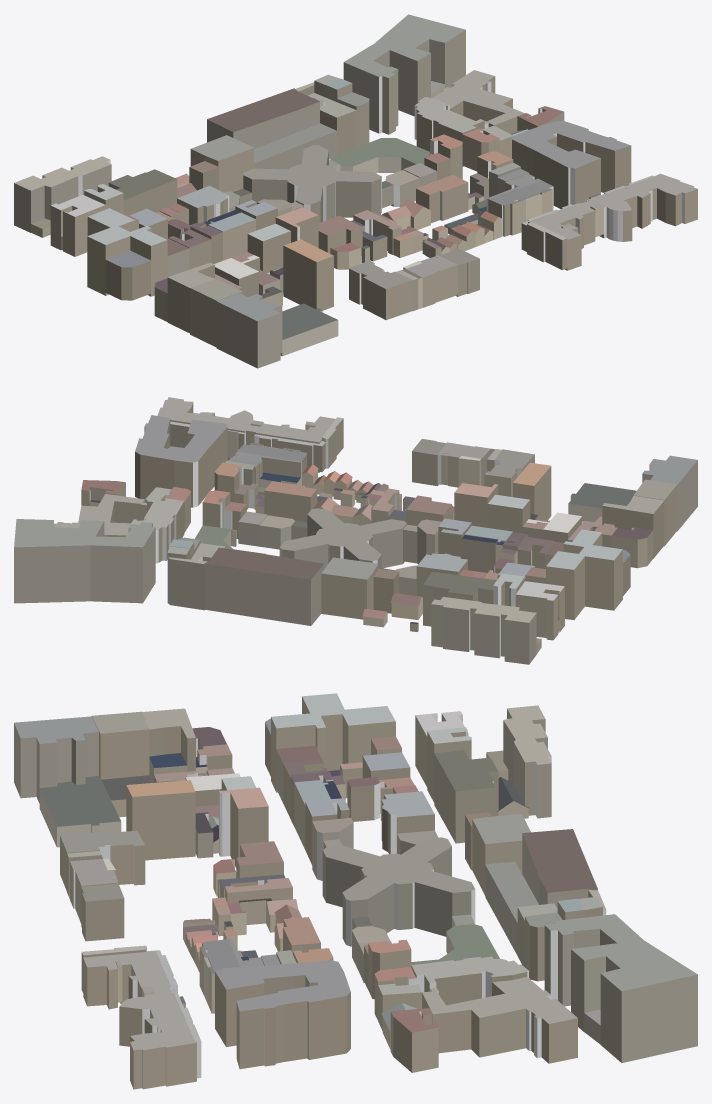
The picture shows the model from 3 angles, top to bottom: view 1: azimuth 30°, elevation 25°; view 2: azimuth 150°, elevation 25°; view 3: azimuth 270°, elevation 25°; orthographic projection. The views are drawn at different scales.
Parts seen in each view (by area): view 1: tuile; view 2: tuile; view 3: tuile.
Boxes of the visible parts, x1,y1,x2,y2 form: tuile: (14, 14, 697, 368); tuile: (14, 397, 697, 664); tuile: (14, 693, 697, 1089).
Size of the model in its own units: 279 by 29.31 by 246.
